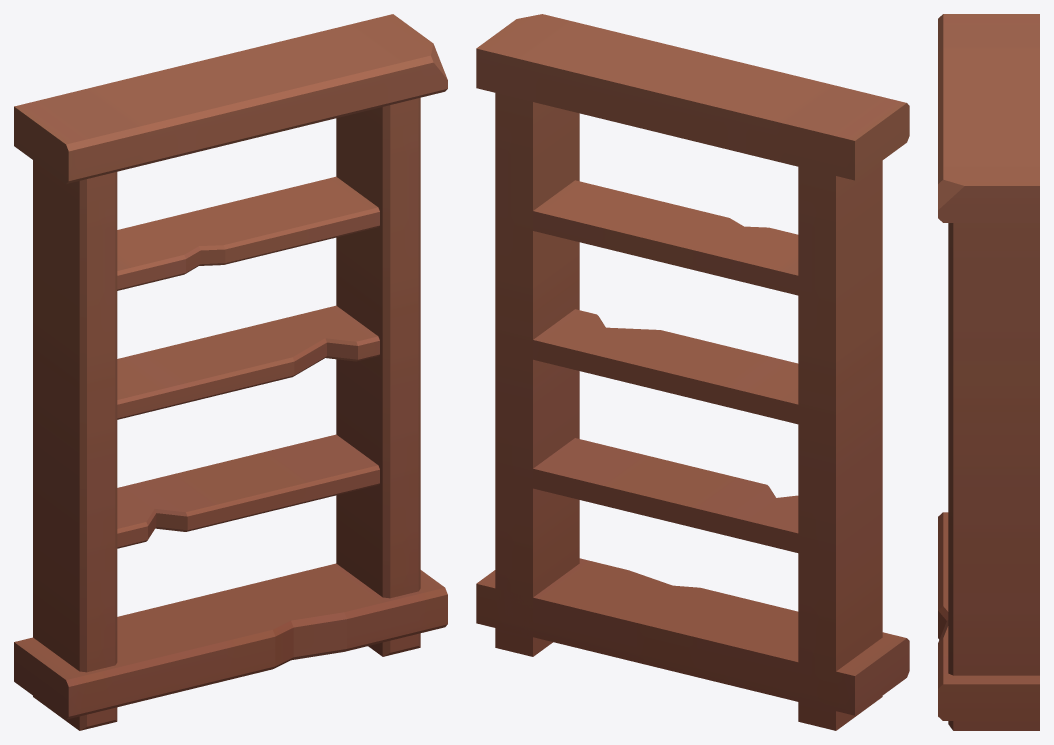
Rendered from bookcase_single.glb.
3 renders of one model, left to right at view 1: azimuth 30°, elevation 25°; view 2: azimuth 150°, elevation 25°; view 3: azimuth 270°, elevation 25°, orthographic. The views are drawn at different scales.
Parts seen in each view (by area): view 1: bookcase_single; view 2: bookcase_single; view 3: bookcase_single.
Boxes of the visible parts, bbox=[...] form: bookcase_single: bbox=[14, 14, 447, 730]; bookcase_single: bbox=[476, 14, 909, 730]; bookcase_single: bbox=[938, 14, 1039, 730].
Size of the model in its own units: 2 by 3 by 0.4999.
1 material, 1 textured.
